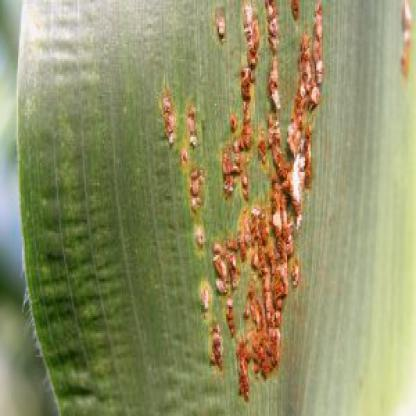corn rust leaf: (11, 2, 410, 414)
